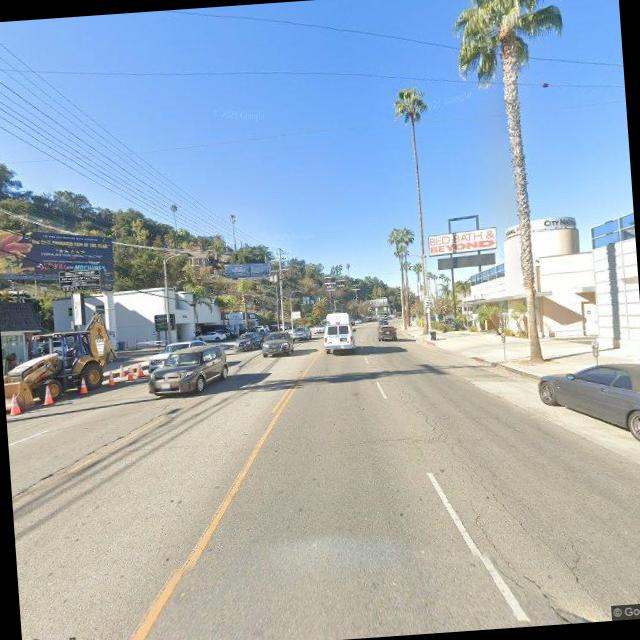pothole: (388, 361, 586, 616)
